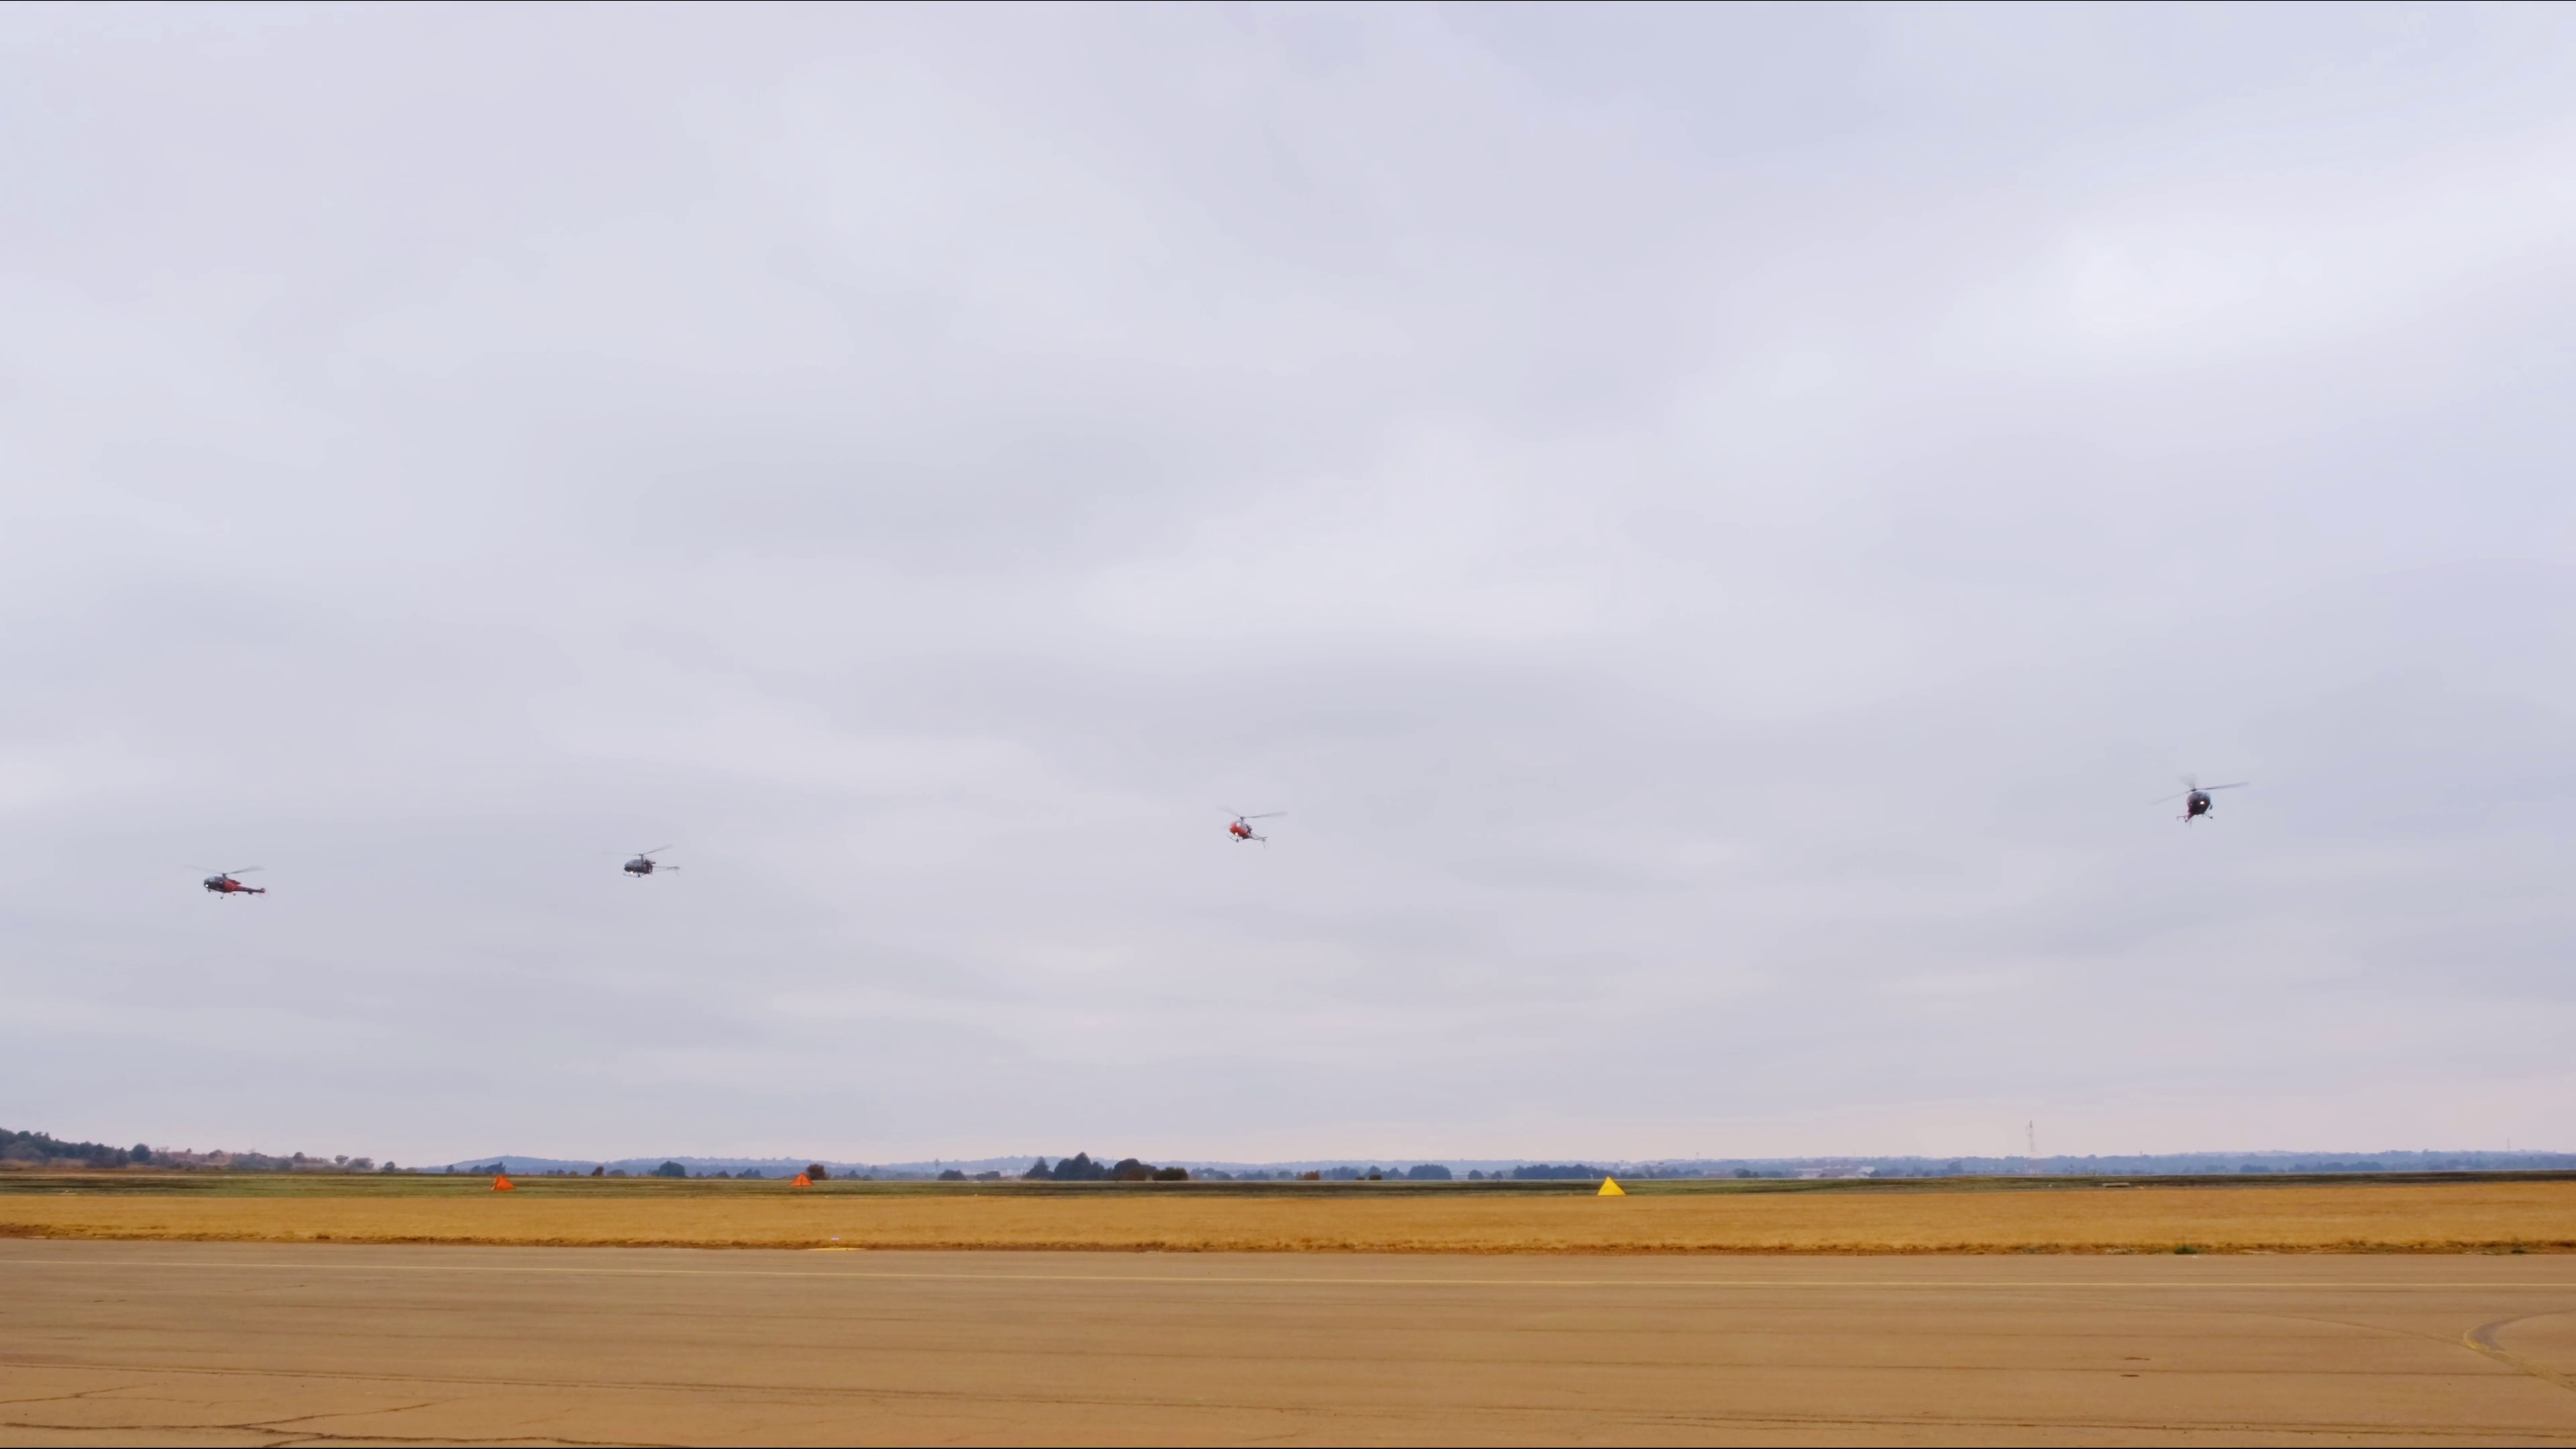heli: (2160, 770, 2247, 826), (202, 858, 271, 899), (1219, 805, 1288, 844), (619, 844, 685, 879)
